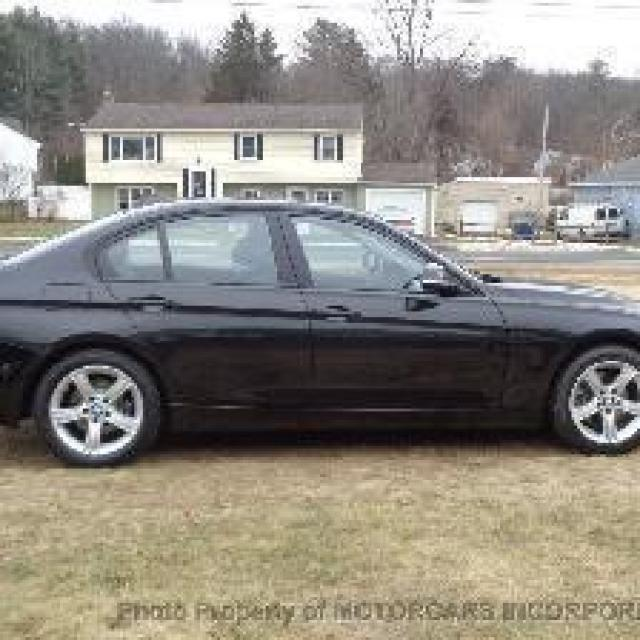damaged: (157, 348, 292, 423)
